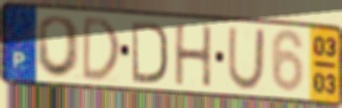6: (268, 27, 308, 98)
D: (80, 14, 122, 83), (129, 19, 170, 86)
H: (172, 23, 214, 89)
O: (35, 14, 83, 80)
U: (225, 25, 267, 93)
